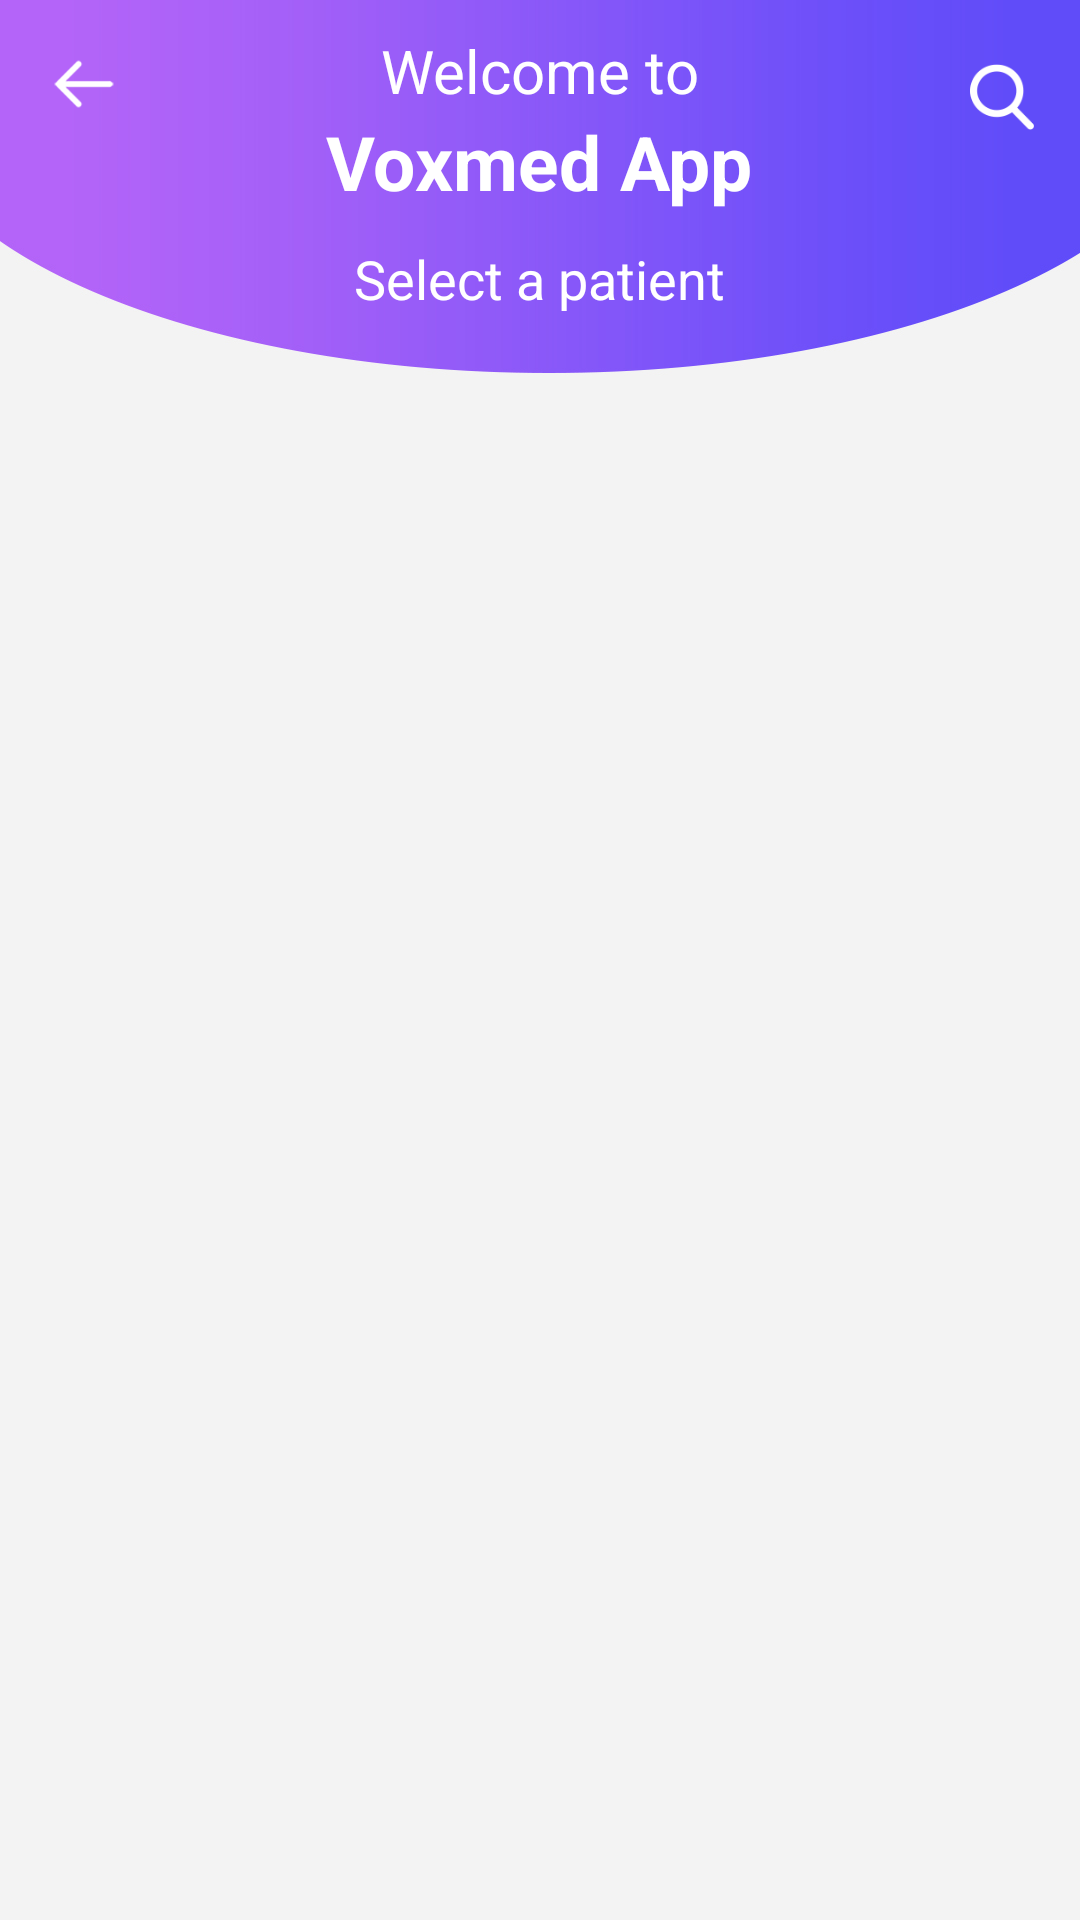

Locate icon controls on the screen. Image size 1080 x 1920, boxes as (x1, y1, x2, y2).
search: (970, 64, 1034, 130)
